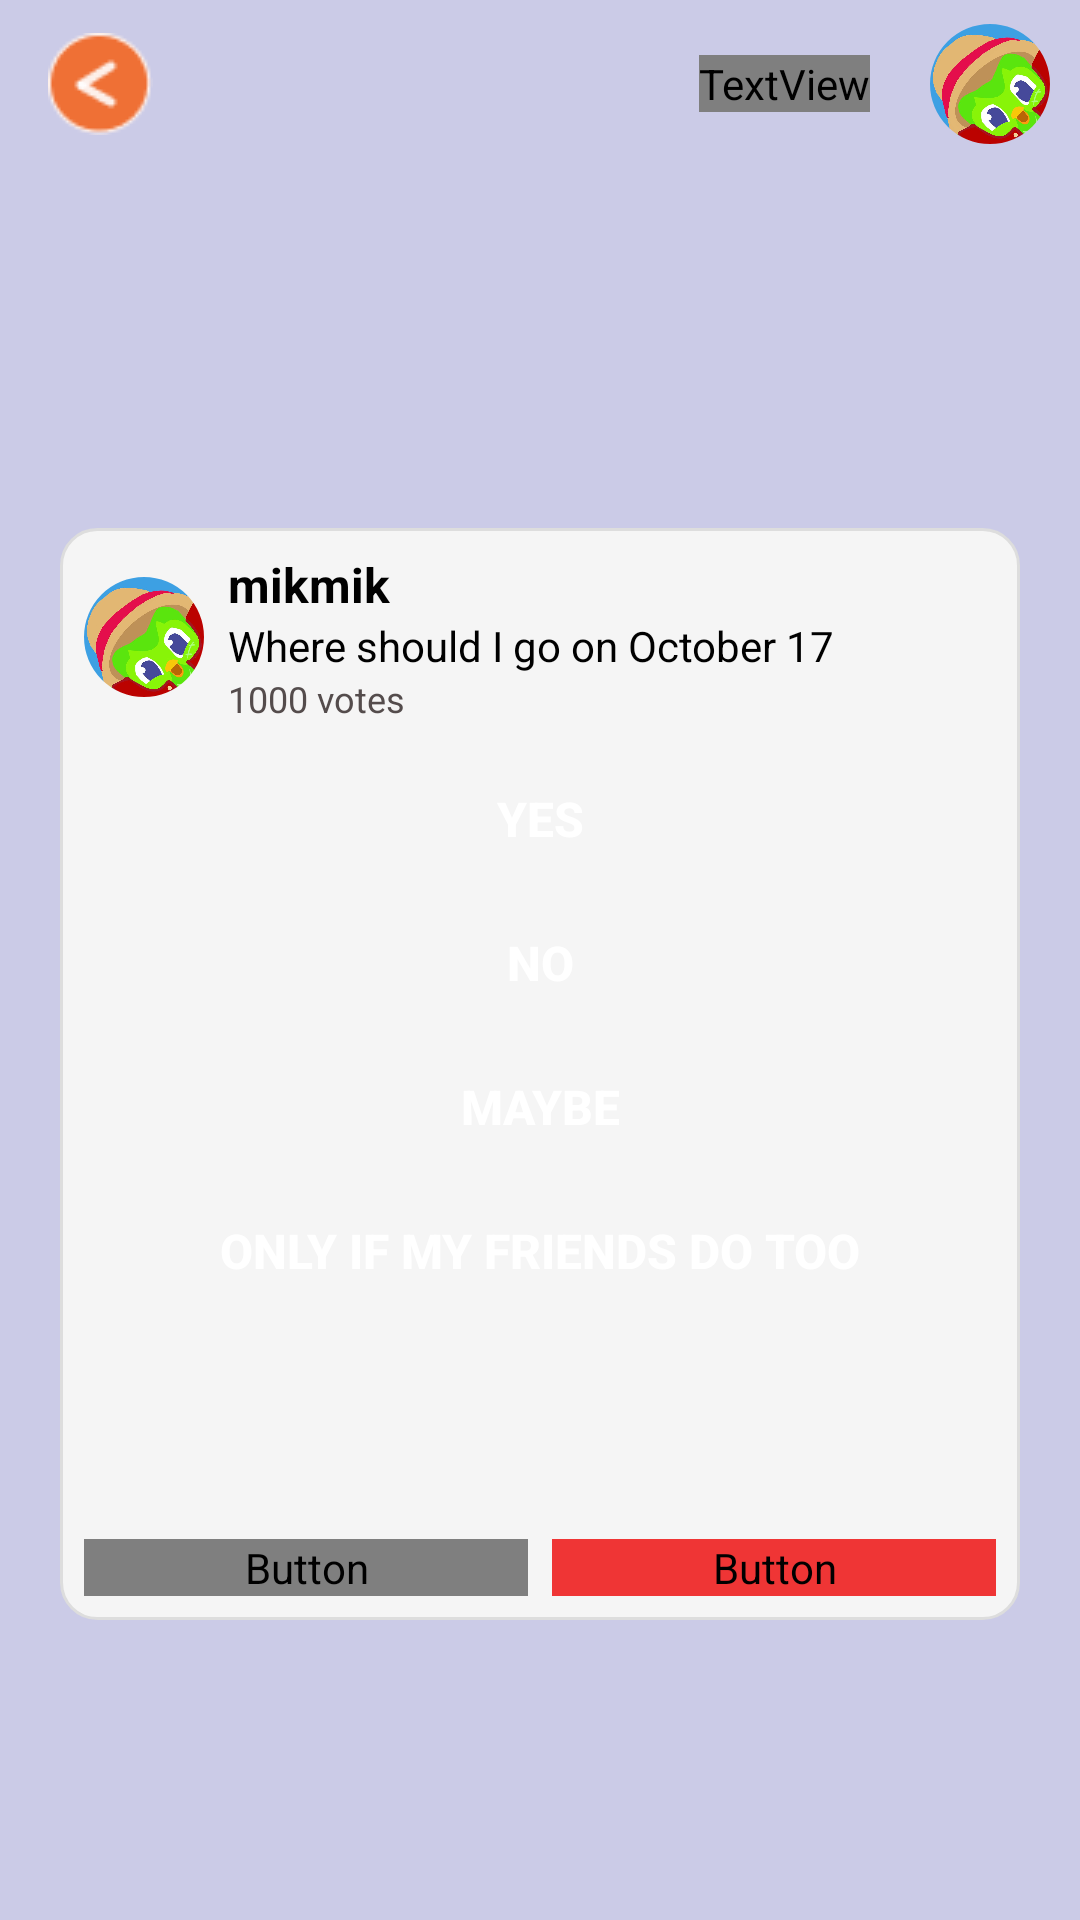

Icons on this 1080w x 1920h Android screen, each with its box as (x1, y1, x2, y2):
back: (48, 33, 150, 133)
